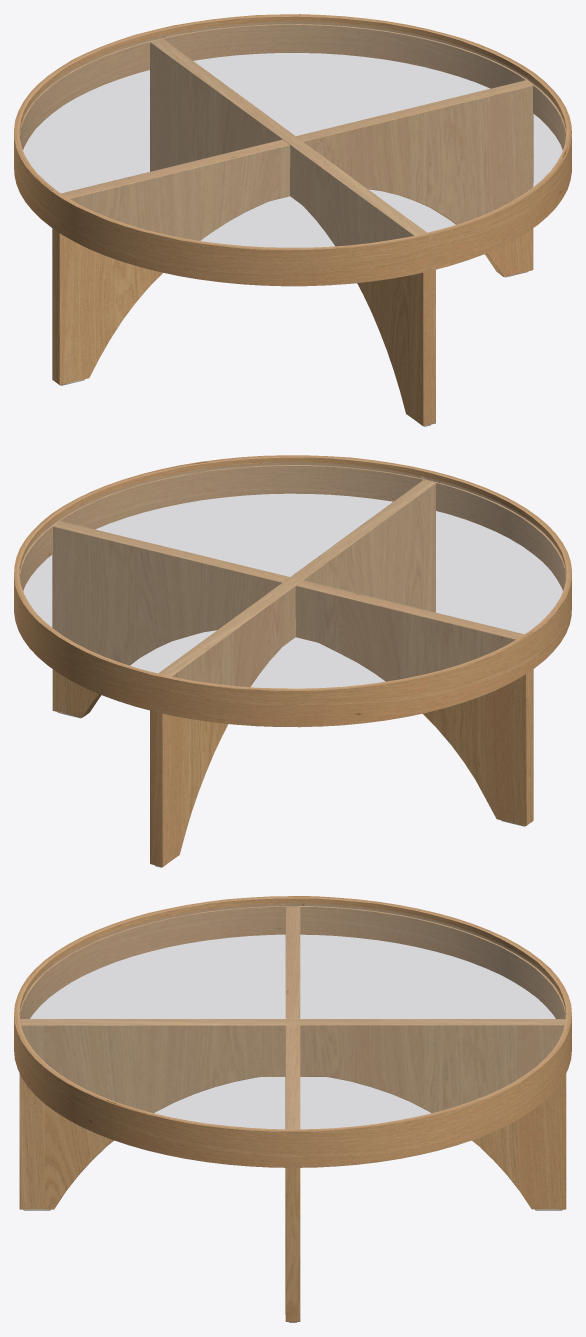
The model's file is stockholm_2025_coffee_table_oak_veneer_g.glb.
The picture shows the model from 3 angles, top to bottom: view 1: azimuth 30°, elevation 25°; view 2: azimuth 150°, elevation 25°; view 3: azimuth 270°, elevation 25°; orthographic projection.
Visible parts, largest first — view 1: ASY_ART_20586552_S01_NV01; view 2: ASY_ART_20586552_S01_NV01; view 3: ASY_ART_20586552_S01_NV01.
Part boxes in pixels (box(x1,y1,x2,y2)): ASY_ART_20586552_S01_NV01: box(14, 14, 571, 426); ASY_ART_20586552_S01_NV01: box(14, 455, 571, 867); ASY_ART_20586552_S01_NV01: box(14, 896, 571, 1322).
Bounding box in the file's own units: 0.973 × 0.376 × 0.973.
2 materials, 2 textured.
